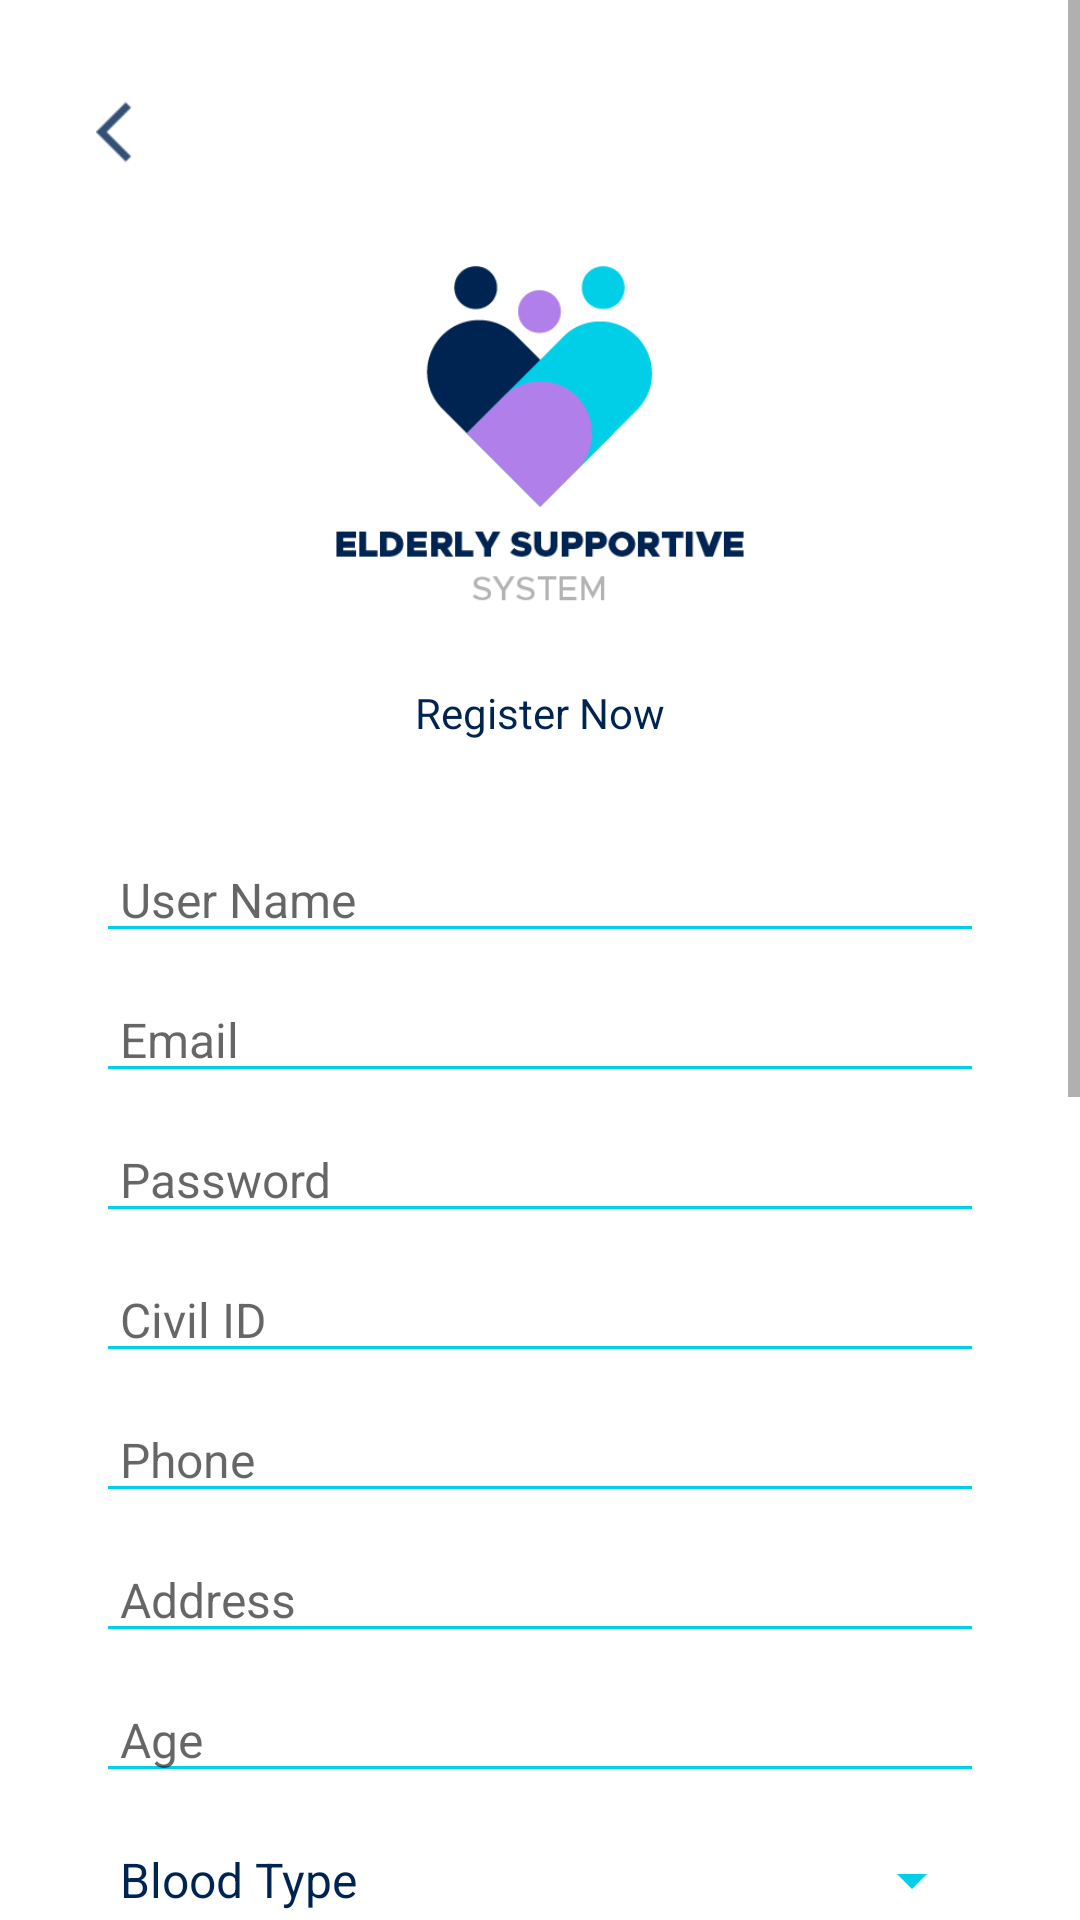

Where to tap for icons on this 1080px×1920px app screen, as (x=x, y=y):
back: (x=113, y=132)
